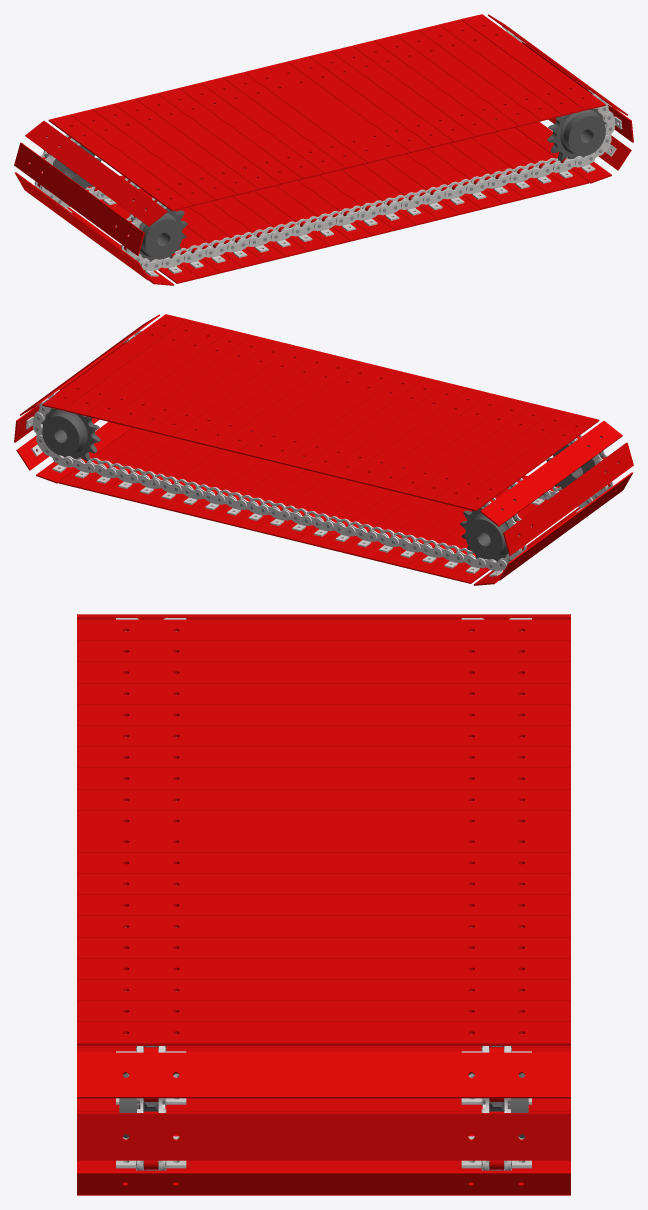
File: CONVEYOR ROLLER CHAIN - BELT CHAIN K1 2X2-rodrigotresd.gltf
3 views of the same model, one above another, from view 1: azimuth 30°, elevation 25°; view 2: azimuth 150°, elevation 25°; view 3: azimuth 270°, elevation 25° (orthographic). The views are drawn at different scales.
Visible parts, largest first — view 1: CHAPA.TORA.ASA.80 (×47), object 316, object 315, object 125; view 2: CHAPA.TORA.ASA.80 (×47), object 124, object 125, object 315; view 3: CHAPA.TORA.ASA.80 (×30).
Part boxes in pixels (<box>): CHAPA.TORA.ASA.80 (×47): <box>14,14,633,285</box>; object 316: <box>547,108,606,160</box>; object 315: <box>130,208,187,261</box>; object 125: <box>44,144,101,189</box>; CHAPA.TORA.ASA.80 (×47): <box>14,314,633,585</box>; object 124: <box>41,408,100,460</box>; object 125: <box>460,508,517,561</box>; object 315: <box>546,444,603,489</box>; CHAPA.TORA.ASA.80 (×30): <box>77,614,570,1195</box>.
Size of the model in its own units: 1.16 by 0.1713 by 0.5.
